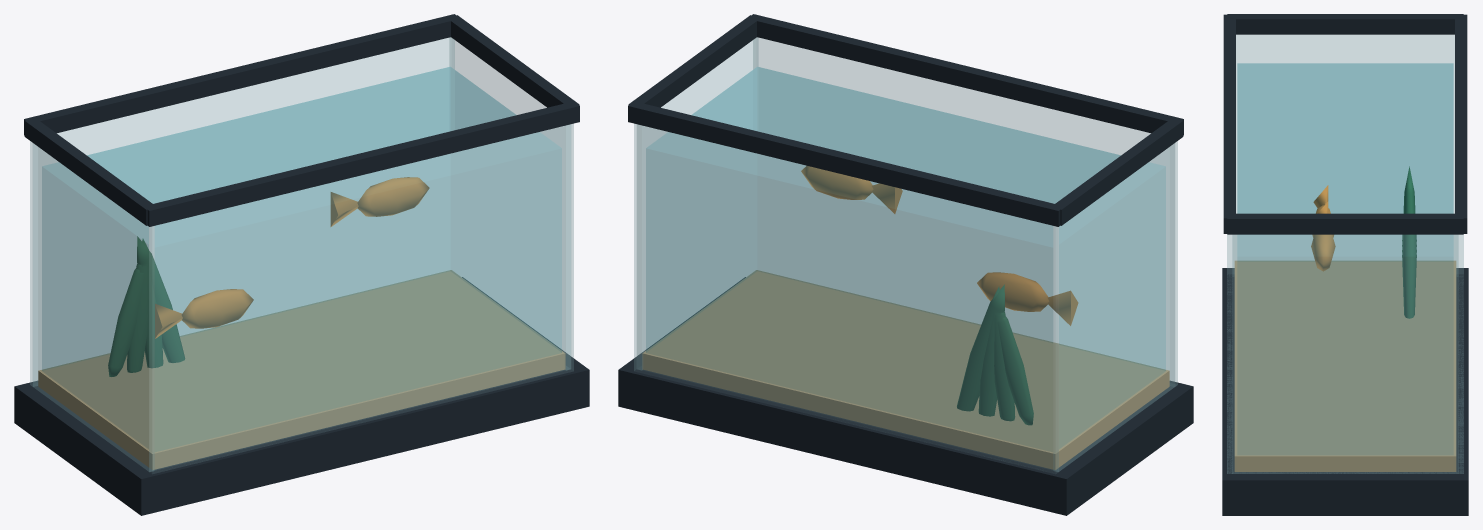
The model's file is aquarium-lod1.glb.
3 views of the same model, side by side, from view 1: azimuth 30°, elevation 25°; view 2: azimuth 150°, elevation 25°; view 3: azimuth 270°, elevation 25° (orthographic). The views are drawn at different scales.
Parts seen in each view (by area): view 1: glass-0.235, water, sand, glass--0.235, glass-side--0.474, base, rim-front-back (×2), glass-side-0.474, rim-side (×2), aquatic-leaf (×4), fish-0, fish-1; view 2: glass--0.235, water, sand, glass-0.235, glass-side--0.474, base, rim-front-back (×2), glass-side-0.474, rim-side (×2), aquatic-leaf (×4), fish-0, fish-1 (+1 smaller); view 3: glass-side-0.474, sand, glass-side--0.474, water, base, rim-side (×2), rim-front-back (×2), aquatic-leaf, glass-0.235, glass--0.235, fish-1.
Part boxes in pixels (x1,y1,x2,y2): glass-0.235: (149,124,573,473); water: (42,67,561,370); sand: (38,270,565,469); glass--0.235: (30,37,454,386); glass-side--0.474: (33,143,154,471); base: (14,277,589,515); rim-front-back (×2): (24,14,579,226); glass-side-0.474: (449,37,570,369); rim-side (×2): (24,15,579,225); aquatic-leaf (×4): (108,236,184,376); fish-0: (182,289,253,328); fish-1: (357,177,429,216); glass--0.235: (634,124,1058,473); water: (646,67,1165,370); sand: (642,270,1169,469); glass-0.235: (753,37,1177,386); glass-side--0.474: (1053,143,1174,471); base: (618,277,1193,515); rim-front-back (×2): (628,14,1183,226); glass-side-0.474: (637,37,758,369); rim-side (×2): (628,15,1183,225); aquatic-leaf (×4): (957,284,1033,425); fish-0: (977,272,1048,311); fish-1: (801,166,873,199); glass-side-0.474: (1232,235,1458,473); sand: (1234,260,1456,471); glass-side--0.474: (1233,35,1457,274); water: (1237,63,1453,261); base: (1222,268,1468,515); rim-side (×2): (1227,14,1463,234); rim-front-back (×2): (1223,14,1467,233); aquatic-leaf: (1402,166,1416,318); glass-0.235: (1227,234,1232,473); glass--0.235: (1458,234,1463,473); fish-1: (1311,234,1335,271).
Bounding box in the file's own units: 1.02 × 0.6575 × 0.5.
